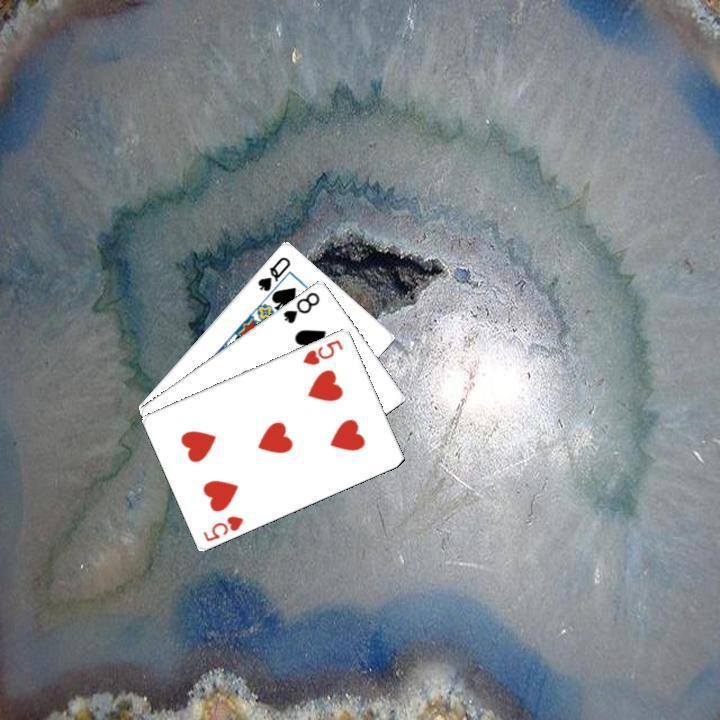5: (199, 511, 246, 543), (299, 335, 345, 367)
8: (278, 287, 322, 325)
Q: (253, 252, 293, 293)
